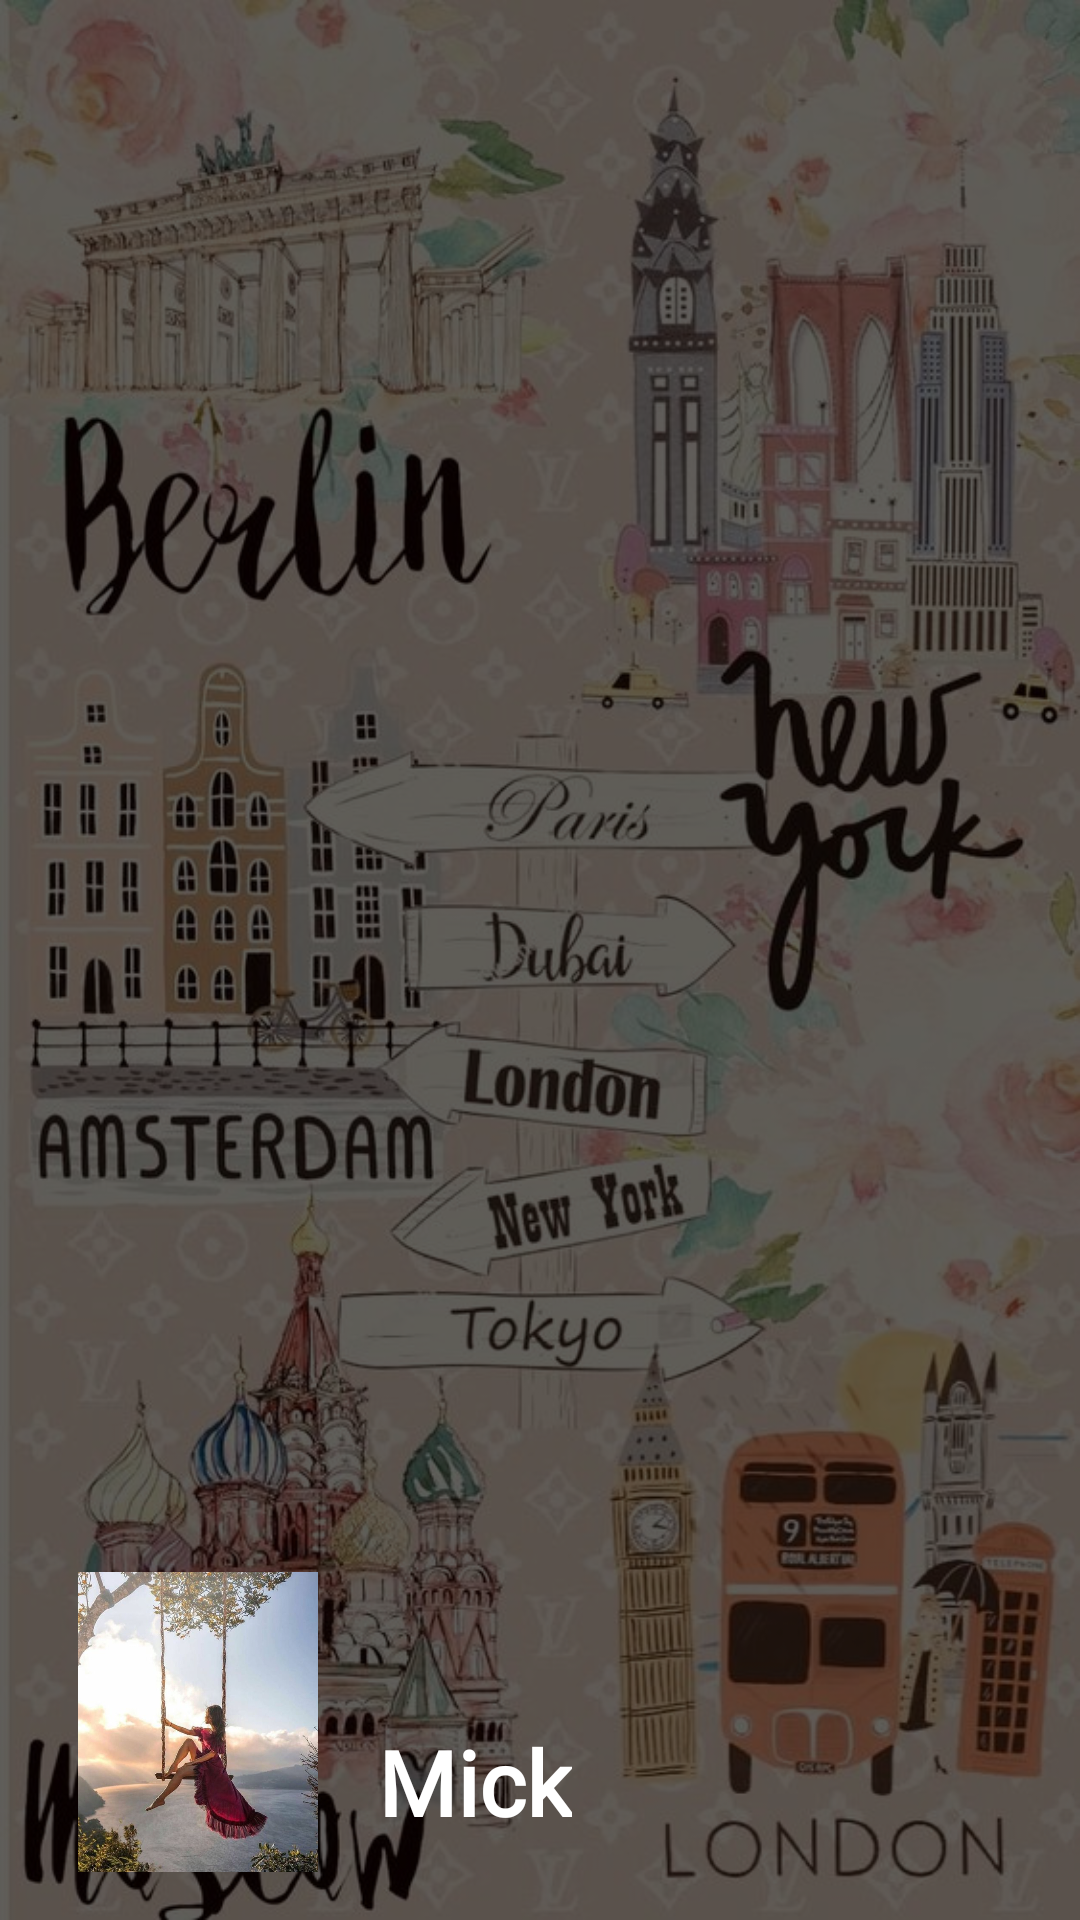

Where icons sit on this 1080×1920 app screen, as [left=x1, top=y1, right=x2, bottom=y2]:
traveler: [left=48, top=1572, right=348, bottom=1872]
